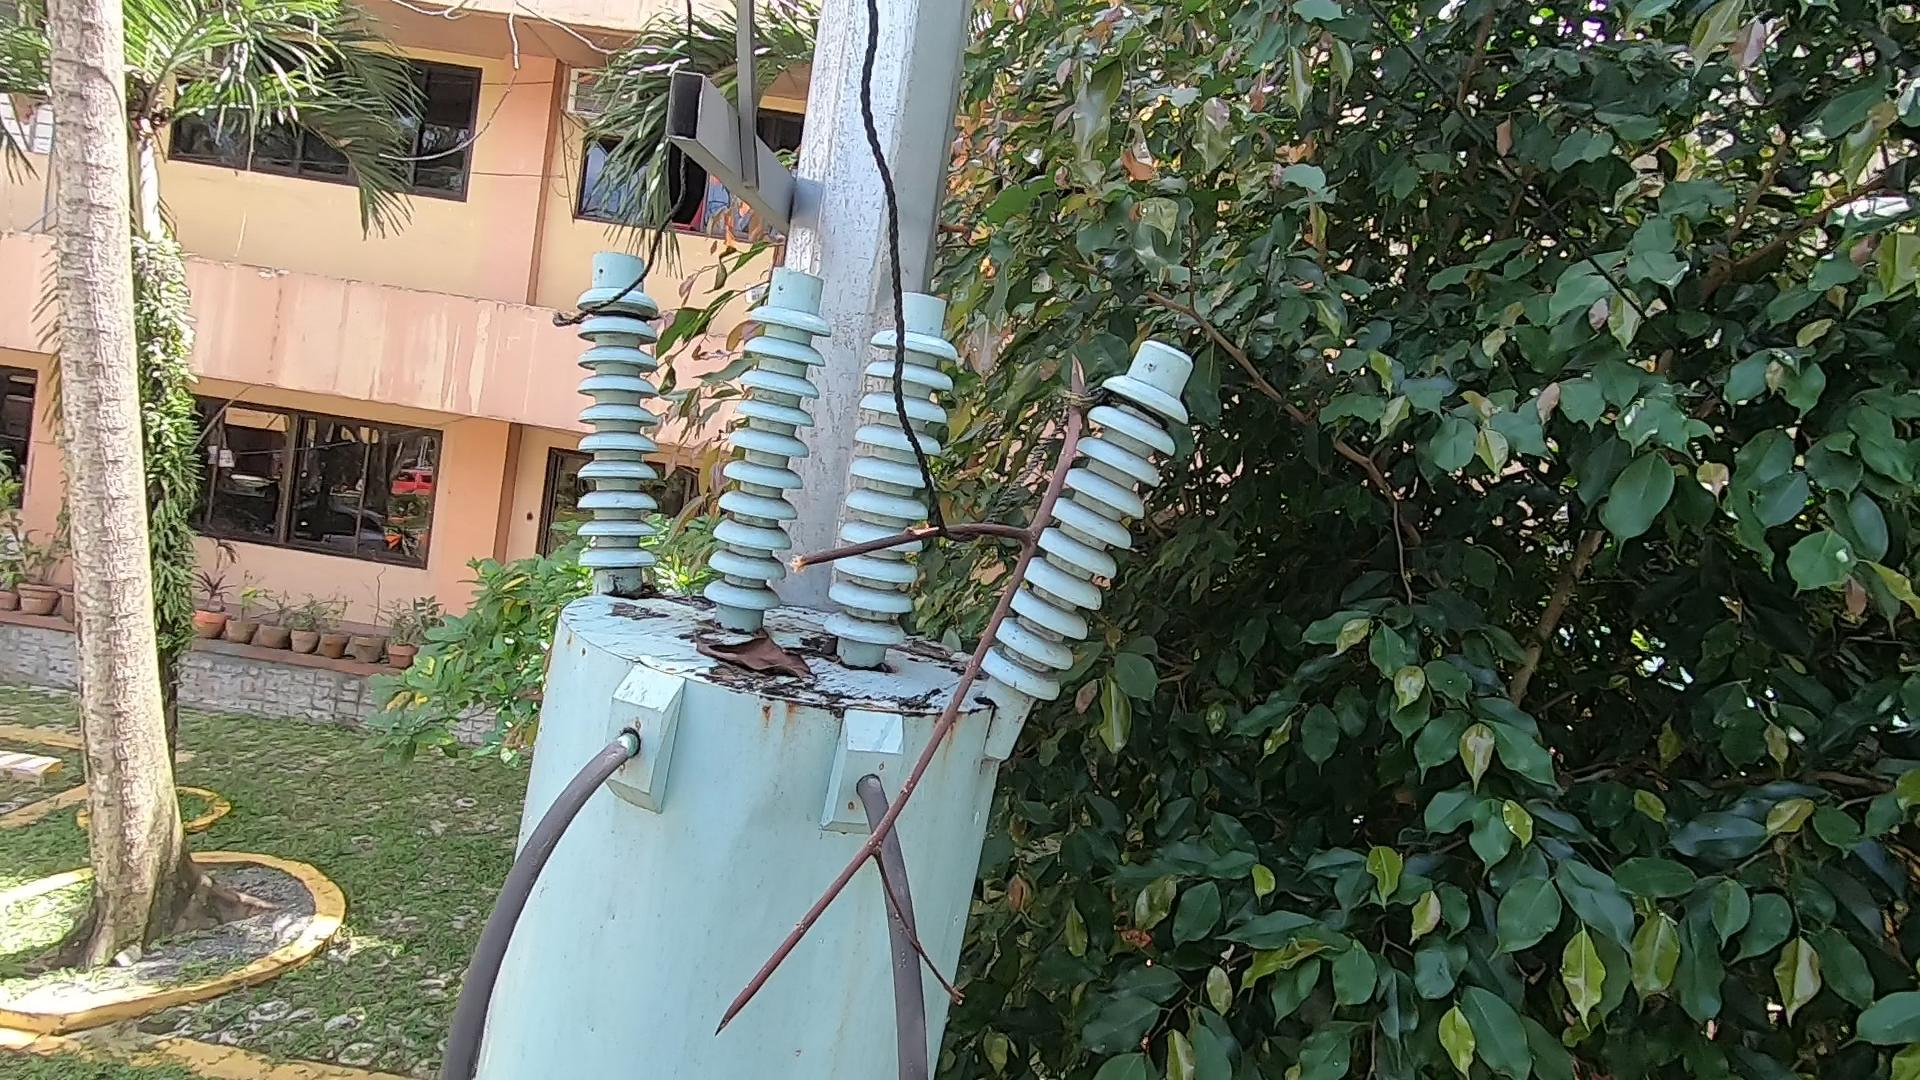leaf: (699, 636, 818, 688)
tree branch: (702, 352, 1149, 1055)
